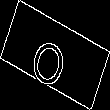O_NE: (33, 23, 77, 87)
